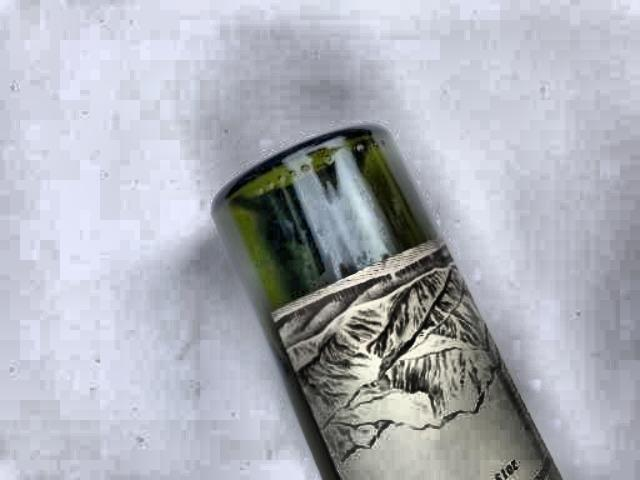Bottles: (179, 89, 571, 480)
